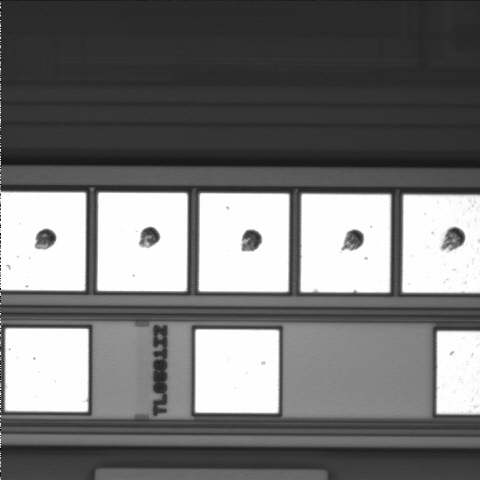pad: (97, 193, 188, 291), (199, 193, 289, 292), (301, 194, 391, 292), (195, 329, 279, 413), (5, 328, 88, 412)
